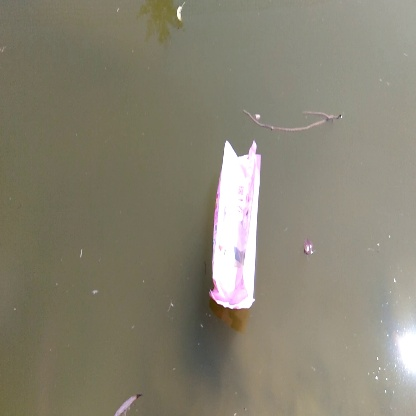plastic-bag: (208, 141, 258, 313)
